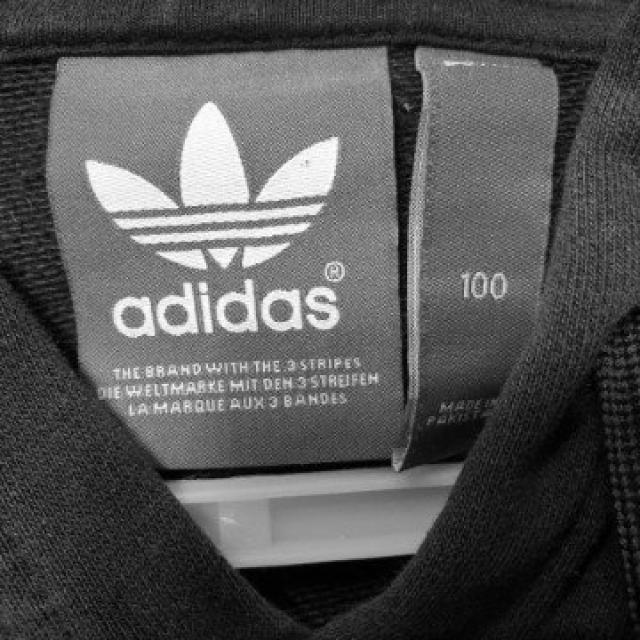Adidas: (66, 94, 354, 276)
